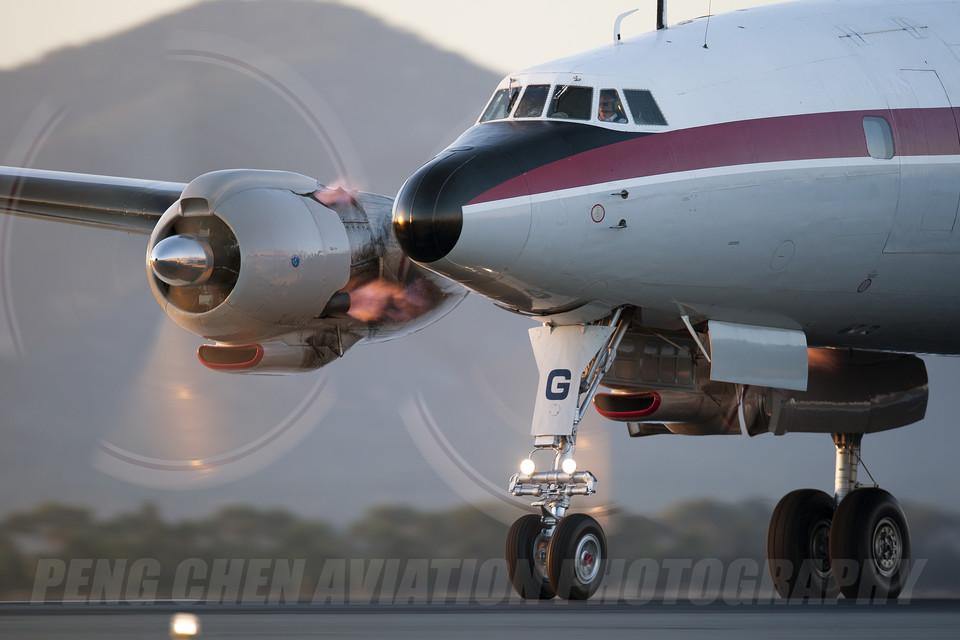airplane: (106, 10, 960, 596)
